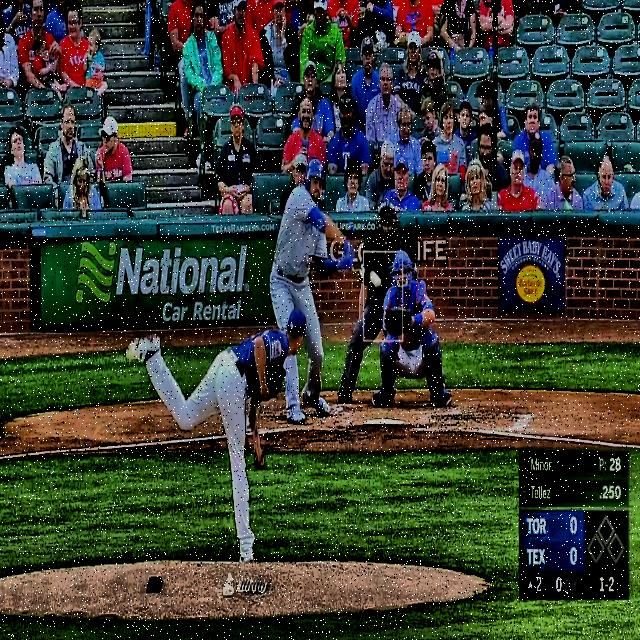baseball: (369, 270, 382, 288)
